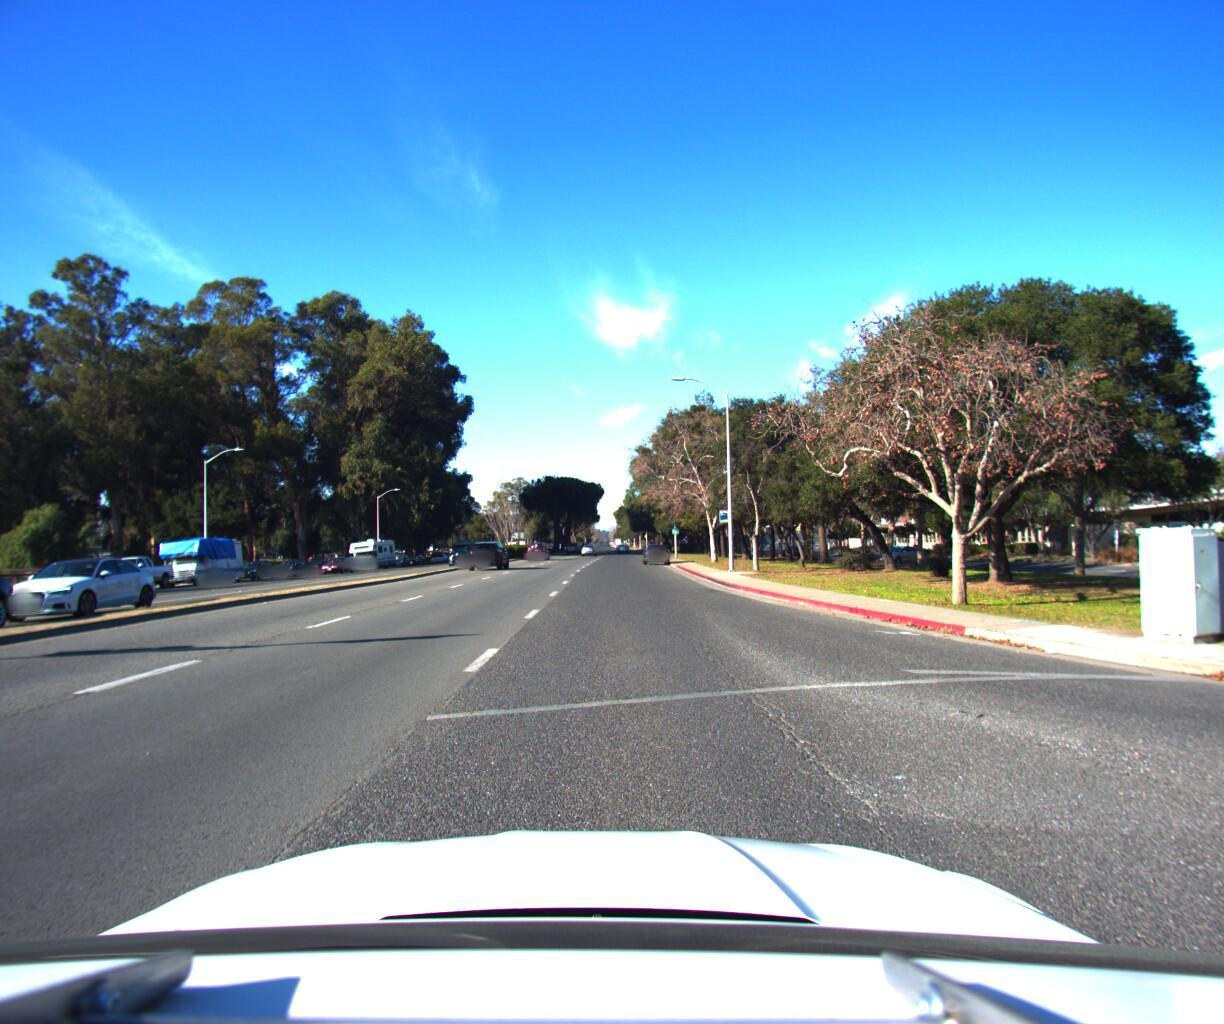car: (0, 550, 174, 622), (86, 549, 184, 593), (0, 551, 38, 662), (467, 536, 511, 571), (232, 556, 285, 580), (272, 555, 316, 577), (300, 553, 343, 575), (318, 553, 360, 574), (641, 540, 671, 563), (446, 547, 474, 566), (526, 540, 552, 559)
other_vehicle: (157, 530, 252, 587)
